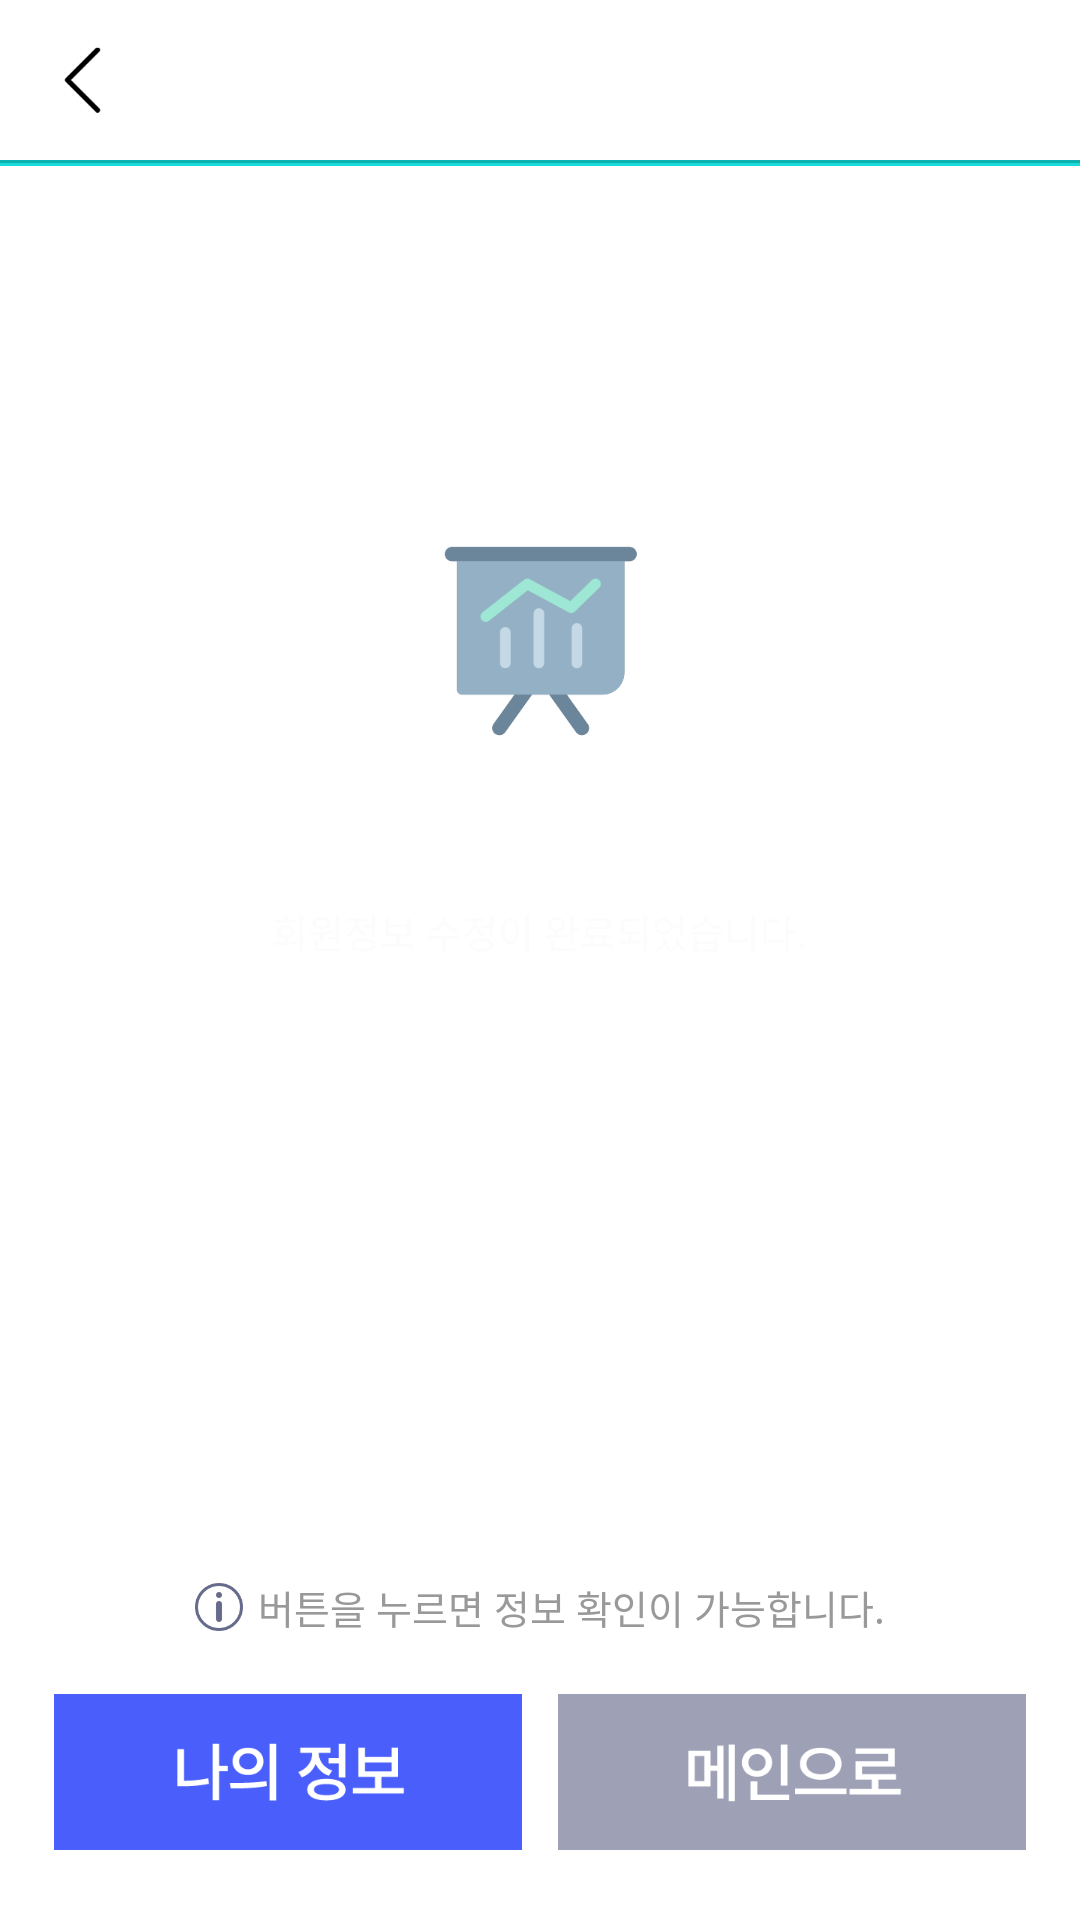

Locate icon controls on the screen. Image size 1080x1920, boxes as Rect(x1, y1, x2, y2).
top back: Rect(64, 47, 101, 113)
